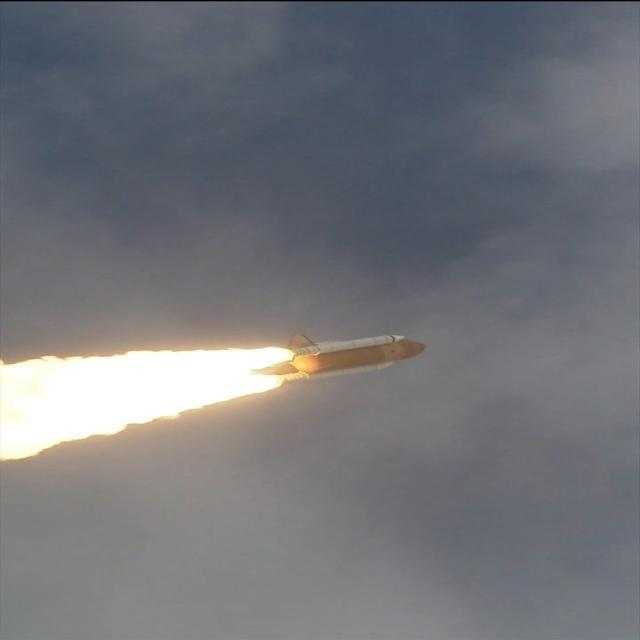missile: (264, 328, 428, 387)
